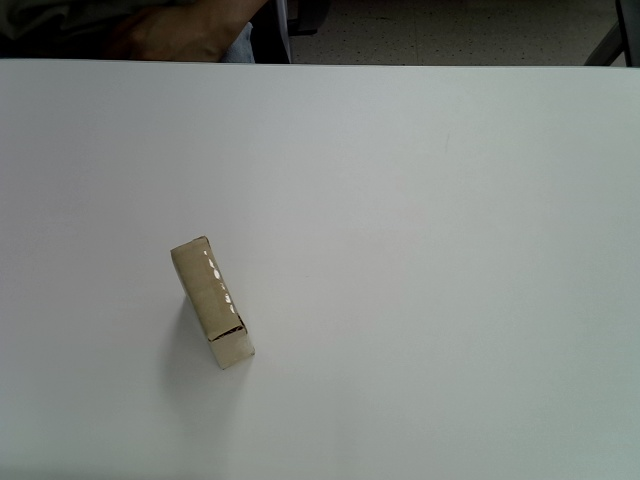normal: (170, 236, 257, 369)
